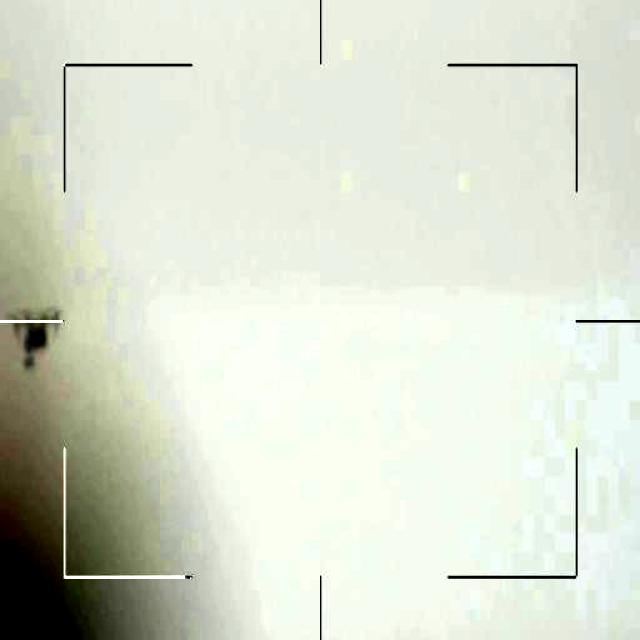bird: (0, 306, 68, 378)
